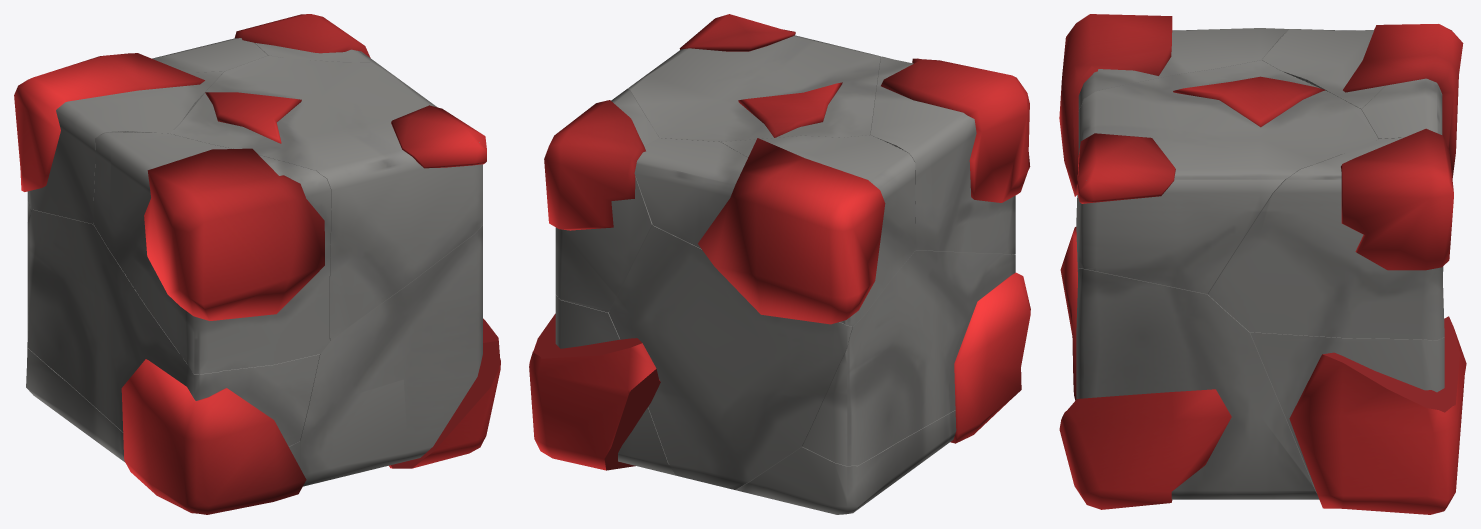
Rendered from Ruby.fbx.
3 renders of one model, left to right at view 1: azimuth 30°, elevation 25°; view 2: azimuth 150°, elevation 25°; view 3: azimuth 270°, elevation 25°, orthographic. The views are drawn at different scales.
Parts seen in each view (by area): view 1: Cube_Parts.046, Cube_Parts.049, Cube_Parts.043, Ore.044, Cube_Parts.042, Ore.042, Cube_Parts.045, Ore.048, Ore.049, Ore.046, Cube_Parts.044, Ore.045 (+3 smaller); view 2: Cube_Parts.040, Ore.048, Cube_Parts.043, Cube_Parts.046, Ore.053, Cube_Parts.042, Ore.044, Ore.045, Cube_Parts.044, Ore.042, Cube_Parts.045, Cube_Parts.048 (+4 smaller); view 3: Cube_Parts.046, Cube_Parts.049, Cube_Parts.041, Ore.053, Ore.049, Ore.045, Cube_Parts.047, Ore.044, Ore.048, Ore.046, Cube_Parts.042, Cube_Parts.045 (+3 smaller).
Boxes of the visible parts, x1,y1,x2,y2 form: Cube_Parts.046: [170, 55, 482, 340]; Cube_Parts.049: [299, 225, 482, 486]; Cube_Parts.043: [27, 209, 319, 446]; Ore.044: [144, 148, 324, 320]; Cube_Parts.042: [93, 131, 331, 374]; Ore.042: [121, 359, 306, 514]; Cube_Parts.045: [27, 71, 223, 224]; Ore.048: [14, 53, 204, 191]; Ore.049: [389, 318, 500, 468]; Ore.046: [391, 105, 486, 168]; Cube_Parts.044: [26, 342, 299, 466]; Ore.045: [234, 14, 370, 57]; Cube_Parts.040: [609, 225, 852, 489]; Ore.048: [698, 138, 885, 324]; Cube_Parts.043: [802, 250, 1015, 466]; Cube_Parts.046: [628, 35, 881, 141]; Ore.053: [529, 313, 660, 470]; Cube_Parts.042: [870, 56, 1015, 254]; Ore.044: [881, 58, 1030, 202]; Ore.045: [544, 100, 645, 230]; Cube_Parts.044: [735, 410, 956, 514]; Ore.042: [950, 272, 1030, 443]; Cube_Parts.045: [721, 135, 915, 326]; Cube_Parts.048: [634, 138, 843, 323]; Cube_Parts.046: [1076, 60, 1378, 294]; Cube_Parts.049: [1076, 268, 1319, 499]; Cube_Parts.041: [1208, 137, 1444, 340]; Ore.053: [1289, 316, 1466, 514]; Ore.049: [1059, 389, 1231, 509]; Ore.045: [1341, 128, 1453, 270]; Cube_Parts.047: [1250, 332, 1444, 491]; Ore.044: [1059, 14, 1172, 196]; Ore.048: [1343, 24, 1463, 178]; Ore.046: [1077, 133, 1175, 203]; Cube_Parts.042: [1078, 28, 1288, 110]; Cube_Parts.045: [1262, 29, 1385, 109].
Bounding box in the file's own units: 224 × 216 × 224.
